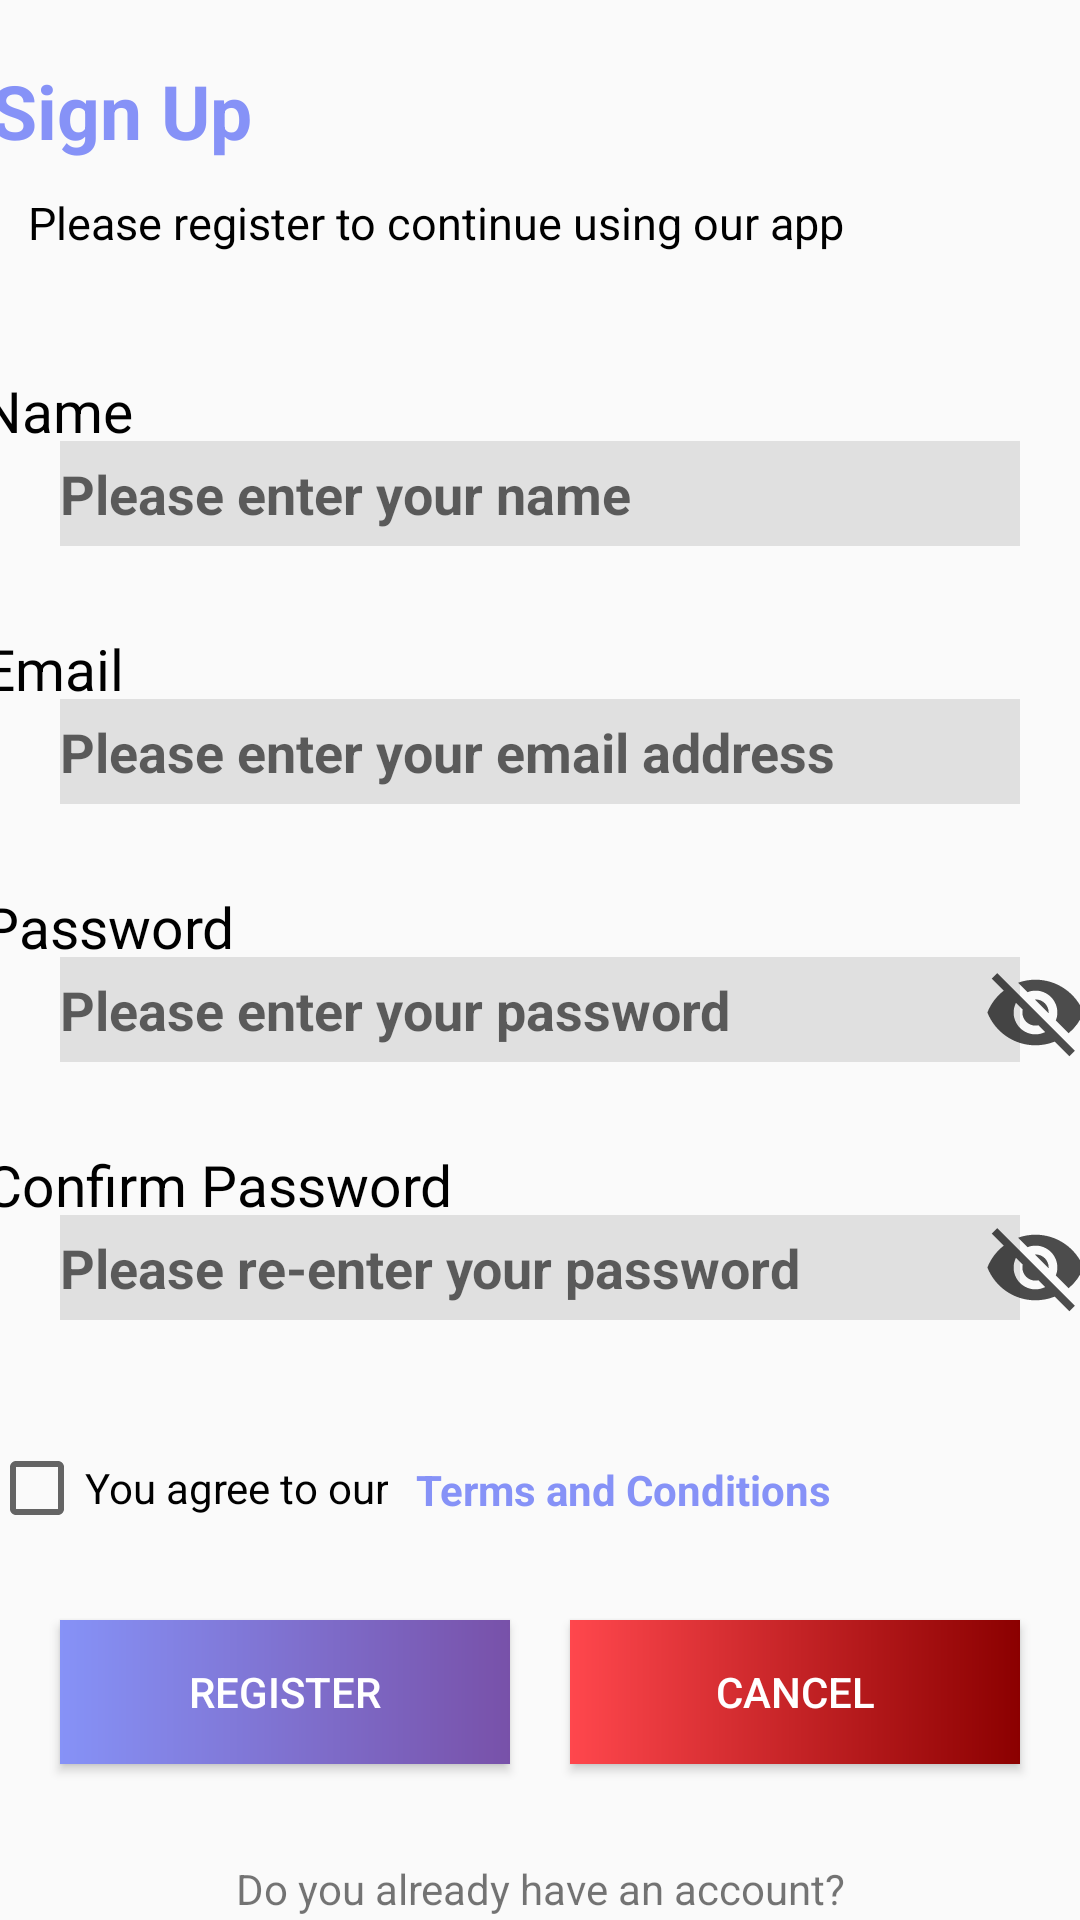

Icon bounding boxes for this 1080px x 1920px phone screenshot, format (x1, y1, x2, y2):
hide password: (983, 960, 1080, 1062), (983, 1215, 1080, 1320)
